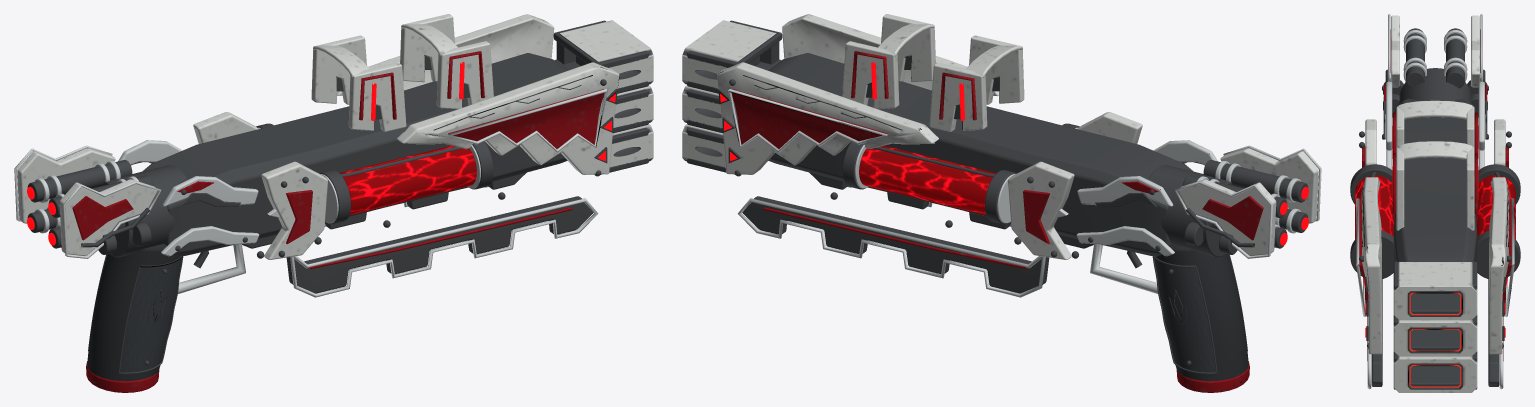
Rendered from discharge-static-preview-v35.glb.
3 views of the same model, side by side, from view 1: azimuth 30°, elevation 25°; view 2: azimuth 150°, elevation 25°; view 3: azimuth 270°, elevation 25° (orthographic). The views are drawn at different scales.
Parts seen in each view (by area): view 1: AtlasMotionGroup_0.001, AtlasMotionGroup_6.001, AtlasMotionGroup_3.001, AtlasMotionGroup_4.001, AtlasMotionGroup_5.001, AtlasMotionGroup_1.001; view 2: AtlasMotionGroup_0.001, AtlasMotionGroup_6.001, AtlasMotionGroup_3.001, AtlasMotionGroup_4.001, AtlasMotionGroup_5.001; view 3: AtlasMotionGroup_0.001, AtlasMotionGroup_6.001, AtlasMotionGroup_4.001, AtlasMotionGroup_5.001, AtlasMotionGroup_3.001, AtlasMotionGroup_2.001, AtlasMotionGroup_1.001.
Boxes of the visible parts, left/top/right/bottom form: AtlasMotionGroup_0.001: left=14, top=14, right=619, bottom=392; AtlasMotionGroup_6.001: left=556, top=20, right=653, bottom=88; AtlasMotionGroup_3.001: left=553, top=20, right=648, bottom=93; AtlasMotionGroup_4.001: left=610, top=124, right=653, bottom=167; AtlasMotionGroup_5.001: left=613, top=85, right=653, bottom=127; AtlasMotionGroup_1.001: left=600, top=127, right=648, bottom=174; AtlasMotionGroup_0.001: left=717, top=14, right=1321, bottom=392; AtlasMotionGroup_6.001: left=682, top=20, right=779, bottom=88; AtlasMotionGroup_3.001: left=687, top=20, right=782, bottom=93; AtlasMotionGroup_4.001: left=682, top=124, right=725, bottom=167; AtlasMotionGroup_5.001: left=682, top=85, right=722, bottom=128; AtlasMotionGroup_0.001: left=1350, top=14, right=1520, bottom=389; AtlasMotionGroup_6.001: left=1393, top=262, right=1477, bottom=320; AtlasMotionGroup_4.001: left=1393, top=356, right=1477, bottom=392; AtlasMotionGroup_5.001: left=1393, top=320, right=1477, bottom=356; AtlasMotionGroup_3.001: left=1393, top=261, right=1477, bottom=317; AtlasMotionGroup_2.001: left=1393, top=316, right=1477, bottom=353; AtlasMotionGroup_1.001: left=1393, top=352, right=1477, bottom=389.
Bounding box in the file's own units: 7.77 × 3.38 × 2.04.
12 materials, 12 textured.
